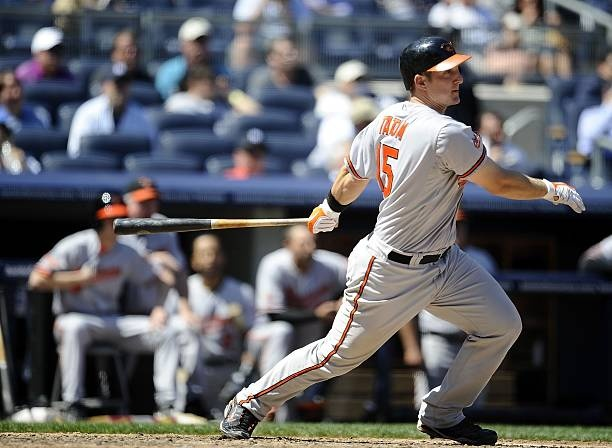bita: (103, 214, 335, 235)
